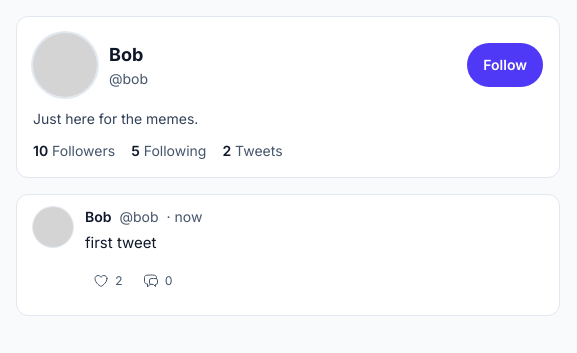
Test: ProfilePage › flips a like optimistically on a TweetCard from the user-tweets cache, with rollback on failure
Expected: the text "first tweet" is shown, [85,233,156,252]
Click the button with test id "tweet-like-button": (108, 281) [85,259,131,303]
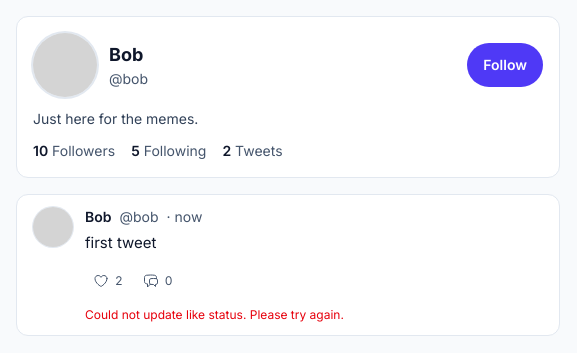
Result: the message "Could not update like status. Please try again." is shown at [85,307,344,322]
